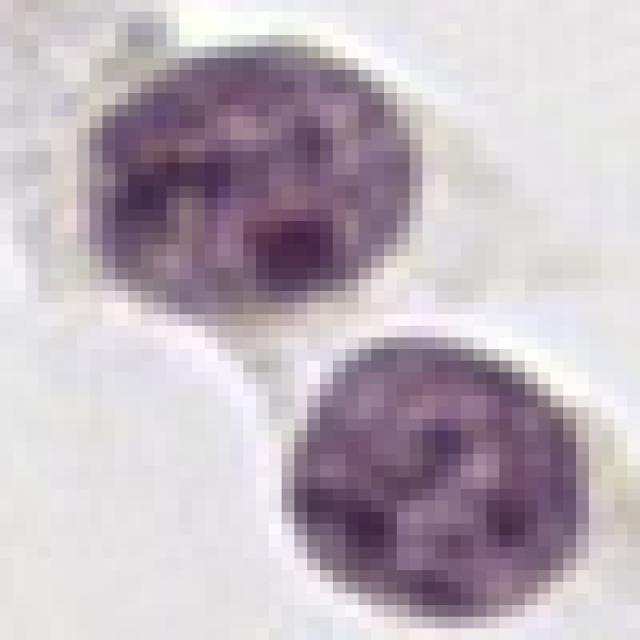cytoplasm: (250, 321, 627, 628)
nucleus: (250, 322, 634, 640), (87, 62, 434, 314)
